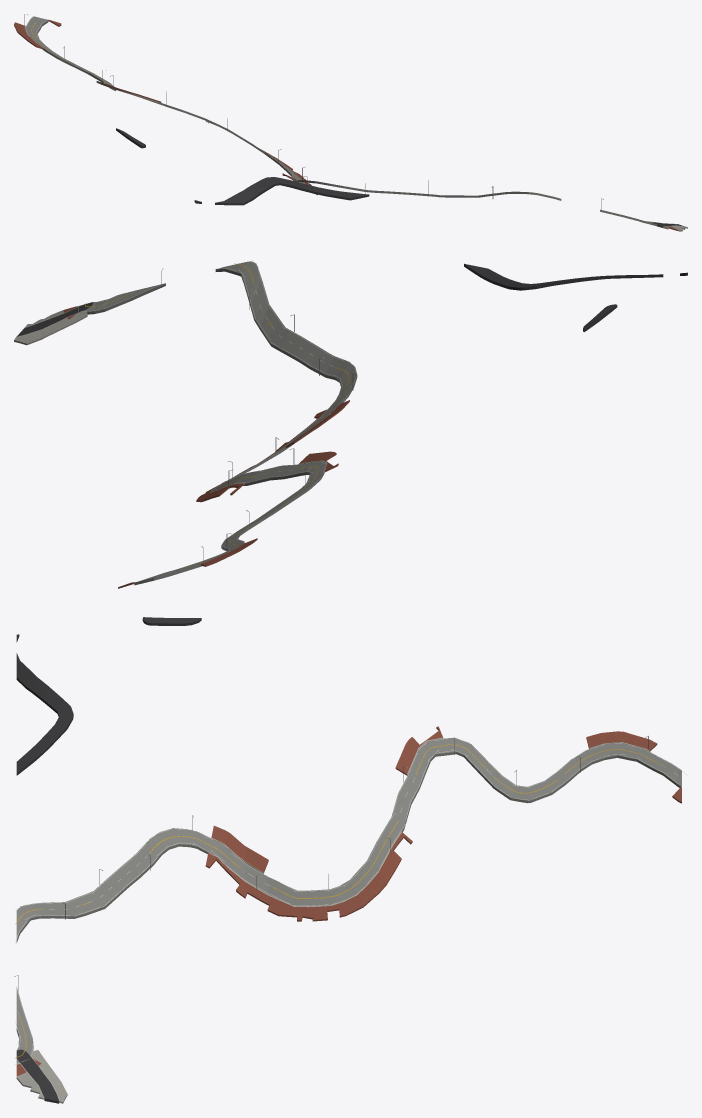
The model's file is 17-109459-59492.bb6ace9d.glb.
The picture shows the model from 3 angles, top to bottom: view 1: azimuth 30°, elevation 25°; view 2: azimuth 150°, elevation 25°; view 3: azimuth 270°, elevation 25°; orthographic projection. The views are drawn at different scales.
Size of the model in its own units: 293 by 98.66 by 295.
